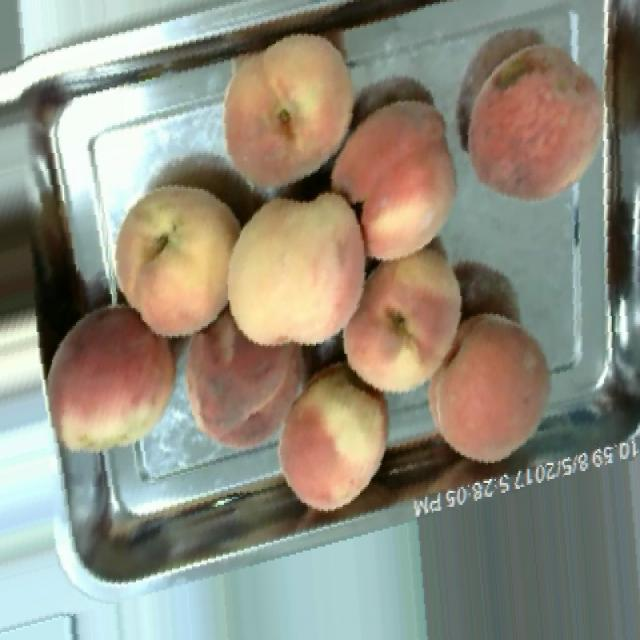Fruit: (194, 9, 384, 212), (446, 20, 616, 222), (222, 172, 390, 372), (322, 76, 482, 278), (322, 231, 482, 414), (254, 346, 410, 529), (92, 163, 238, 358), (409, 300, 563, 481), (170, 290, 326, 467), (42, 290, 192, 471)
